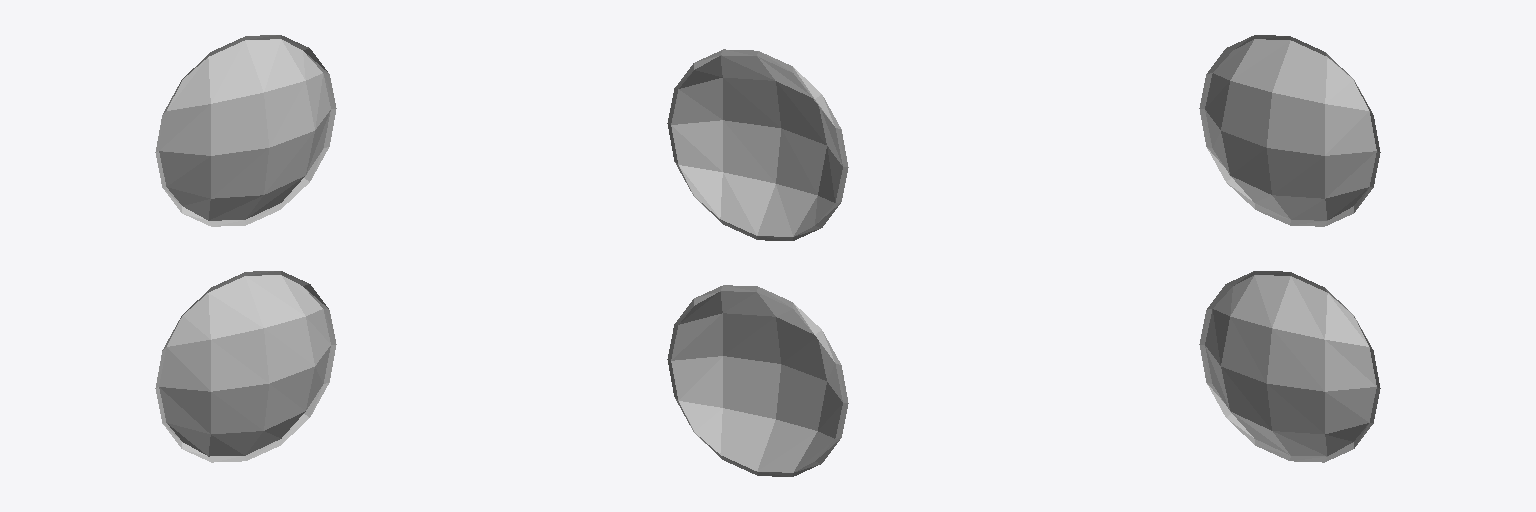
Rendered from SpeakerSpeaker.obj.
3 renders of one model, left to right at view 1: azimuth 30°, elevation 25°; view 2: azimuth 150°, elevation 25°; view 3: azimuth 330°, elevation 25°, orthographic.
Parts seen in each view (by area): view 1: Cube.001; view 2: Cube.001; view 3: Cube.001.
Part boxes in pixels (x1,y1,x2,y2): Cube.001: (155, 35, 336, 462); Cube.001: (667, 49, 848, 476); Cube.001: (1199, 35, 1380, 462).
Bounding box in the file's own units: 0.7842 × 1.76 × 0.2.